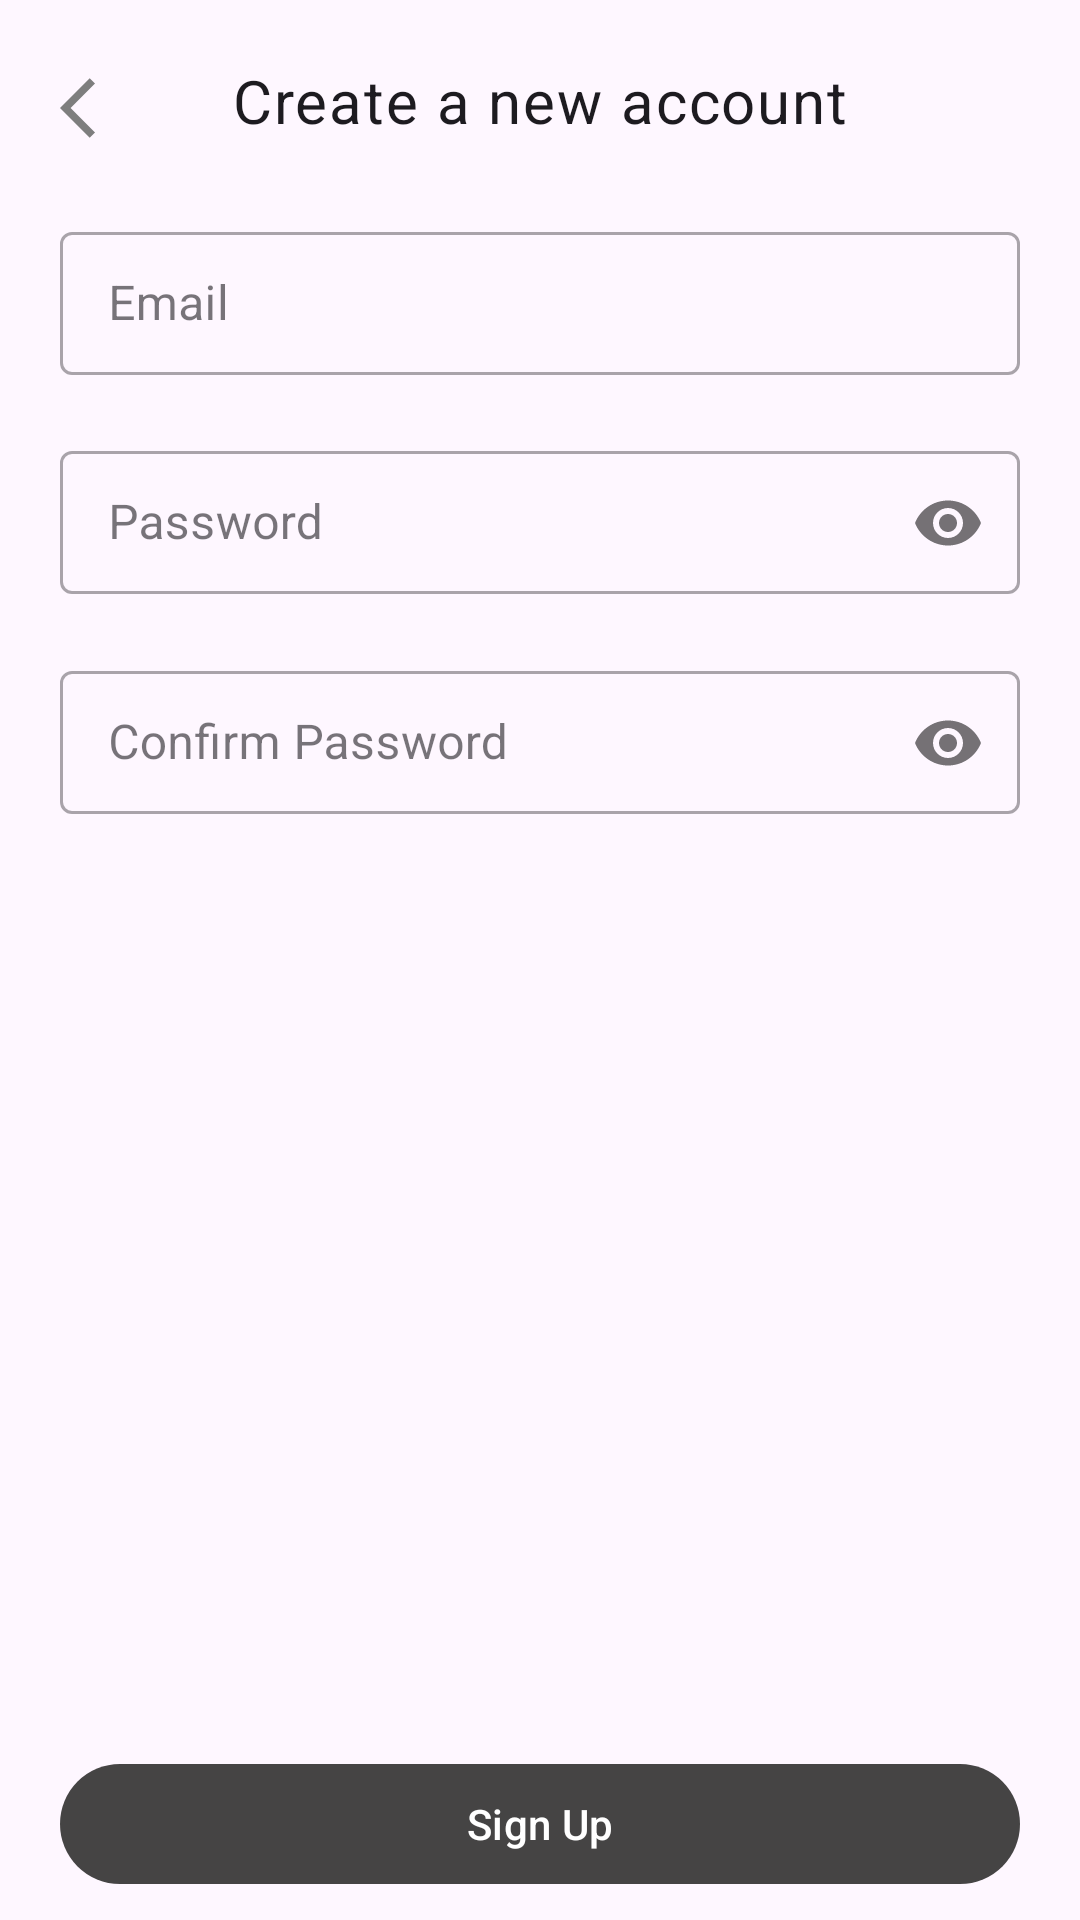

Where to tap for icons on this 1080 x 1920 app screen, as (x=x, y=y):
arrow back: (x=77, y=108)
